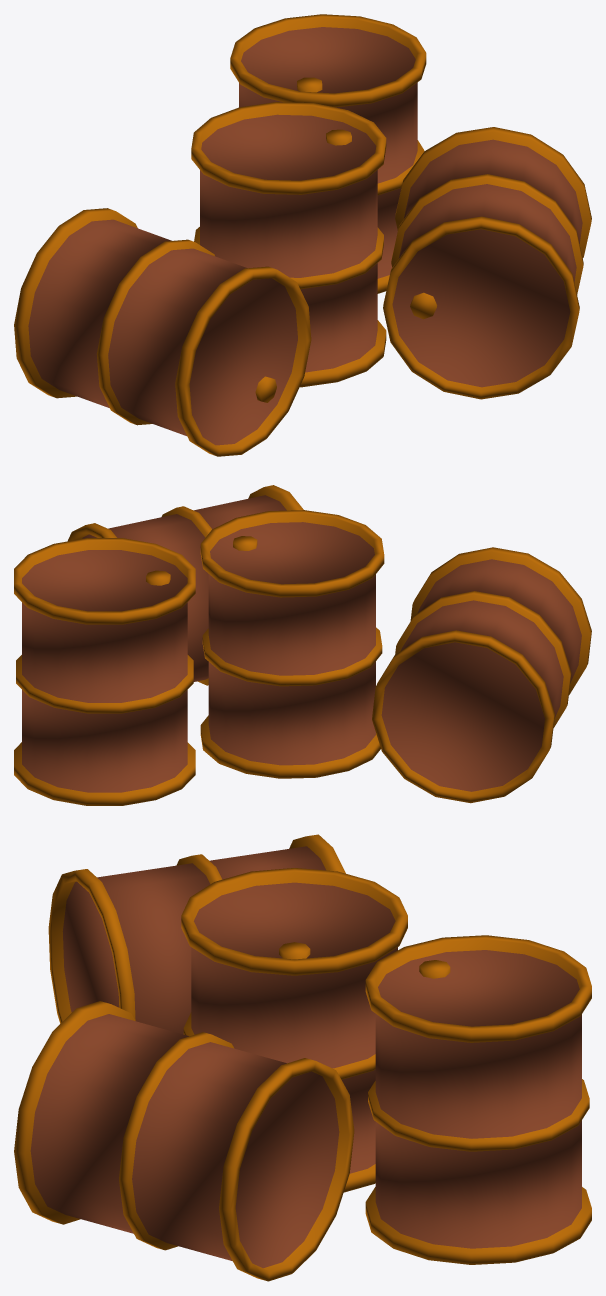
Rendered from barrels.glb.
3 renders of one model, top to bottom at view 1: azimuth 30°, elevation 25°; view 2: azimuth 150°, elevation 25°; view 3: azimuth 270°, elevation 25°, orthographic. The views are drawn at different scales.
Visible parts, largest first — view 1: Barrel.004, Barrel.002, Barrel.001, Barrel.003; view 2: Barrel.001, Barrel.003, Barrel.004, Barrel.002; view 3: Barrel.002, Barrel.003, Barrel.001, Barrel.004.
Part boxes in pixels (x1,y1,x2,y2): Barrel.004: [14, 208, 311, 456]; Barrel.002: [383, 127, 591, 399]; Barrel.001: [191, 102, 386, 387]; Barrel.003: [230, 14, 426, 293]; Barrel.001: [200, 510, 384, 778]; Barrel.003: [14, 538, 195, 805]; Barrel.004: [372, 547, 591, 803]; Barrel.002: [68, 485, 303, 685]; Barrel.002: [14, 1001, 354, 1281]; Barrel.003: [365, 935, 591, 1264]; Barrel.001: [181, 868, 407, 1192]; Barrel.004: [48, 834, 345, 1034].
Bounding box in the file's own units: 2.01 × 0.7349 × 1.58.
